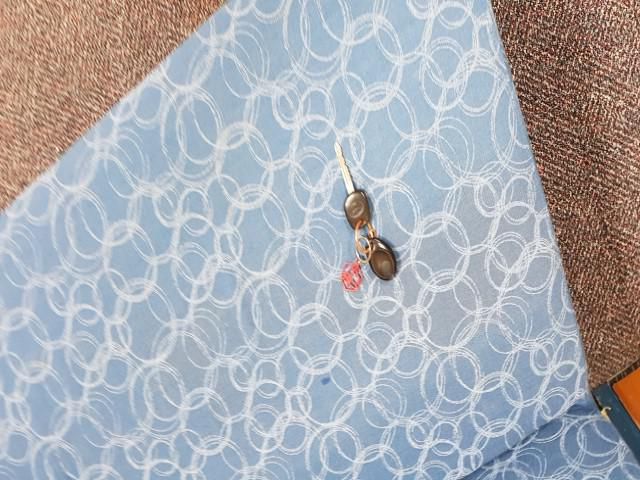key: (325, 139, 375, 230)
